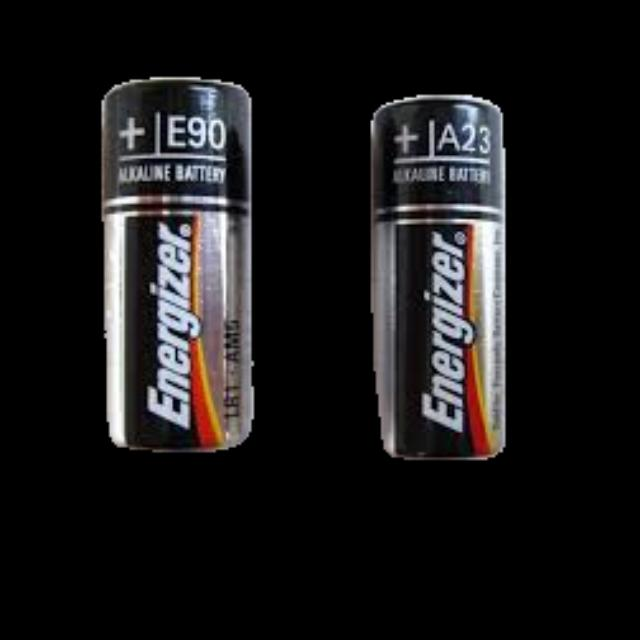Battery: (368, 94, 508, 465)
